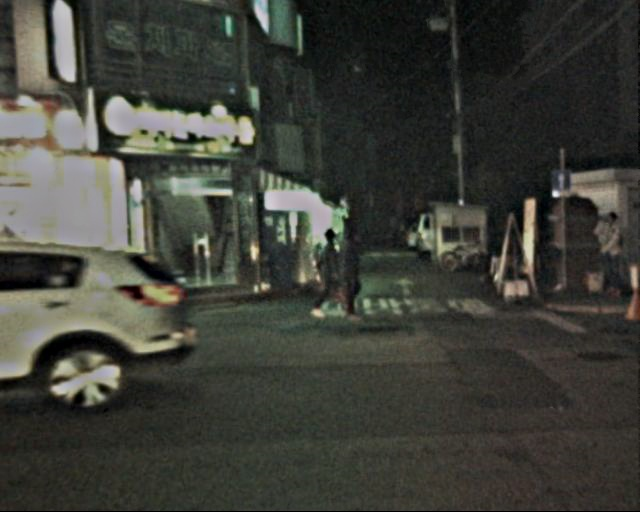person: (302, 227, 348, 323), (328, 226, 372, 325), (588, 209, 629, 302)
